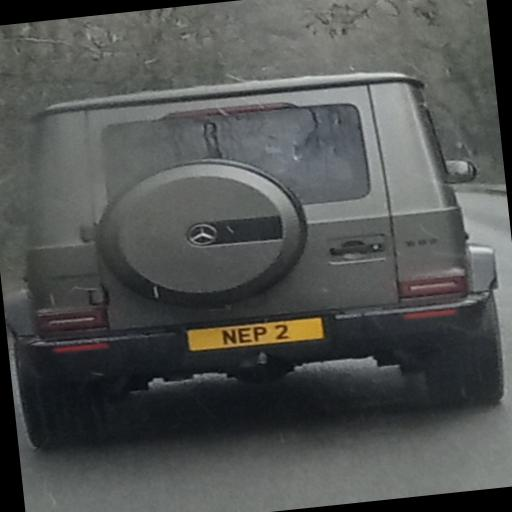numberplates: (186, 316, 326, 354)
